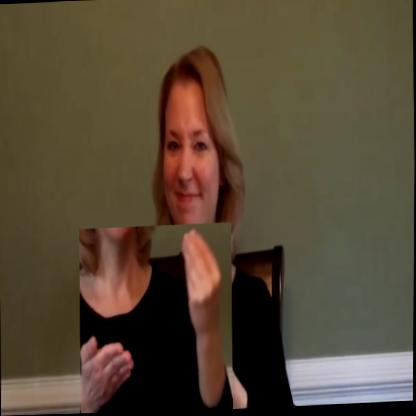Expensive: (78, 224, 234, 414)
